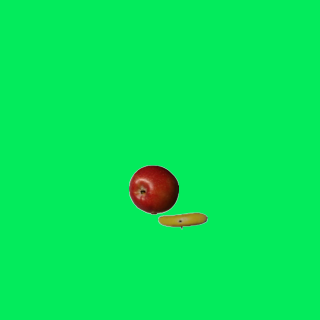Apple Braeburn: (128, 164, 178, 214)
Banana: (157, 195, 207, 245)
